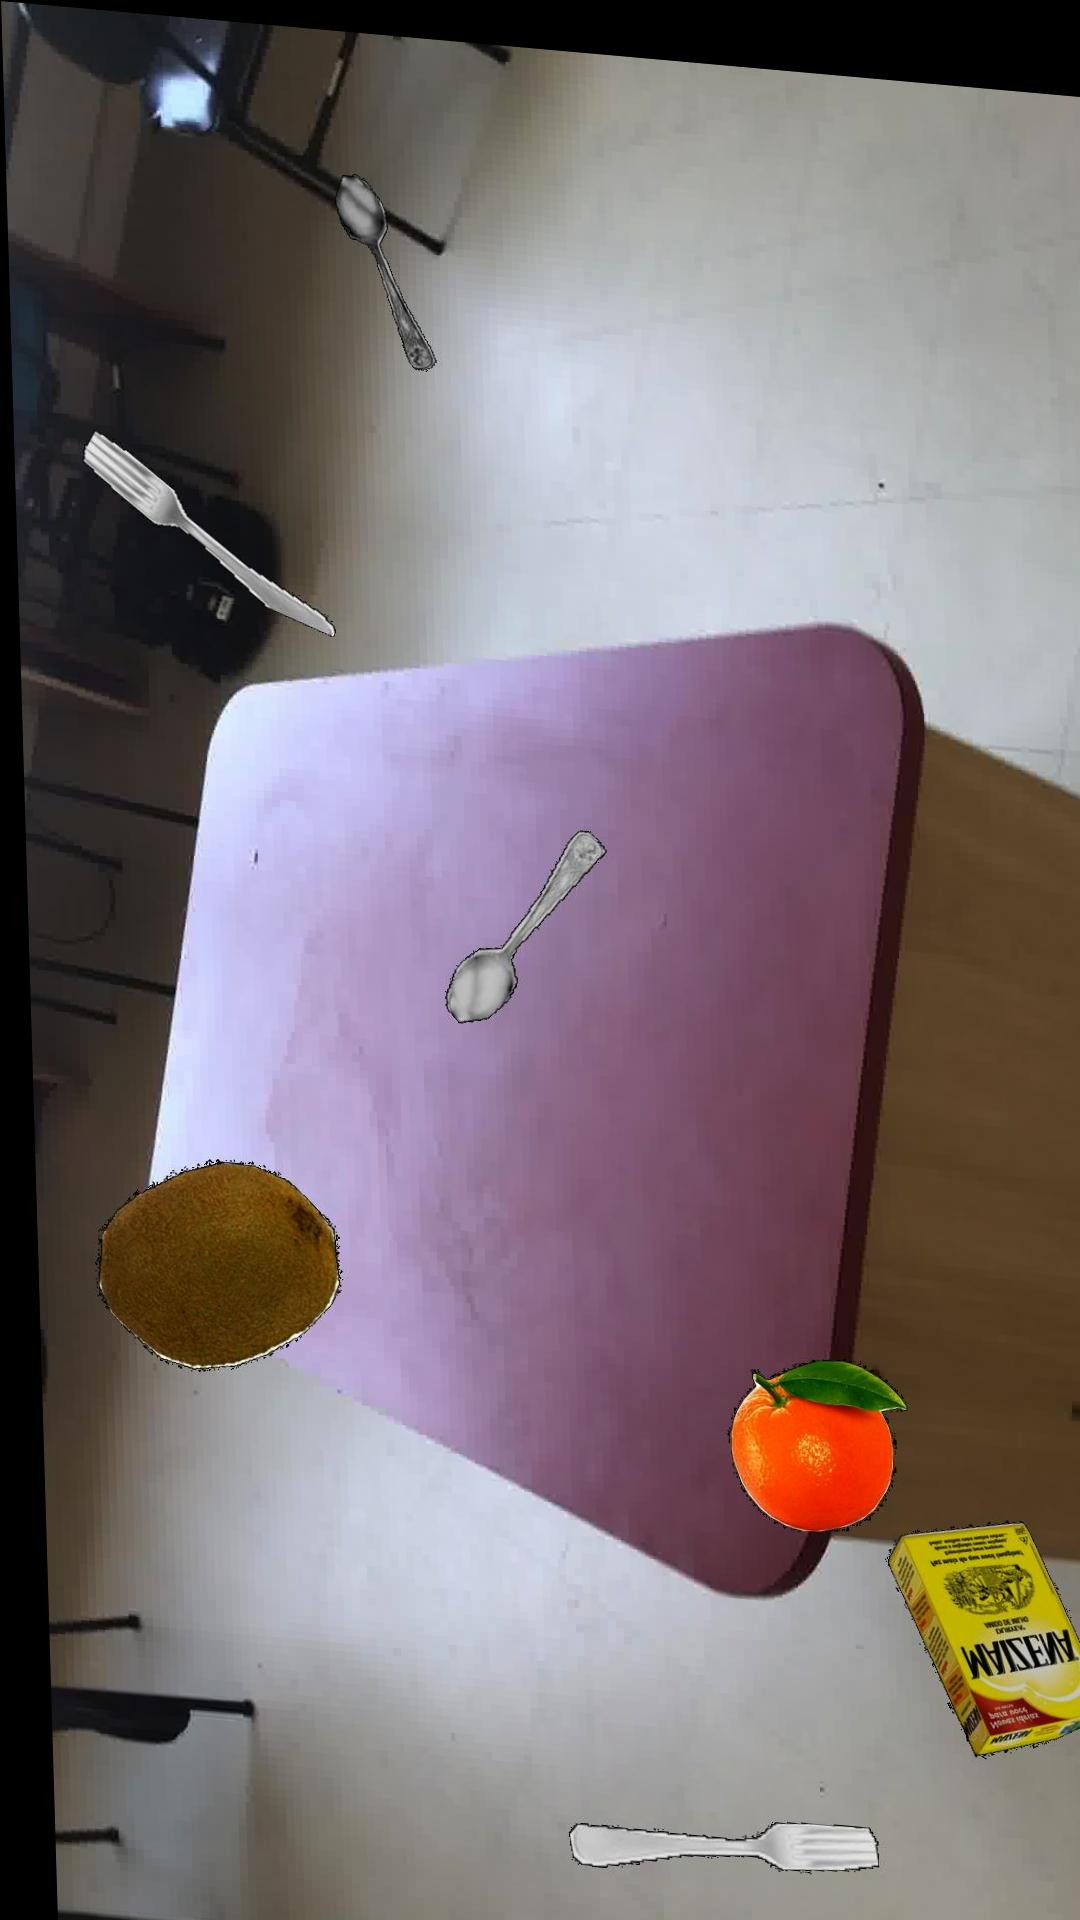fork: (80, 430, 332, 632), (558, 1809, 868, 1858)
kiwi: (90, 1156, 334, 1367)
orange: (723, 1345, 899, 1519)
spoon: (440, 820, 603, 1015), (335, 167, 435, 364)
